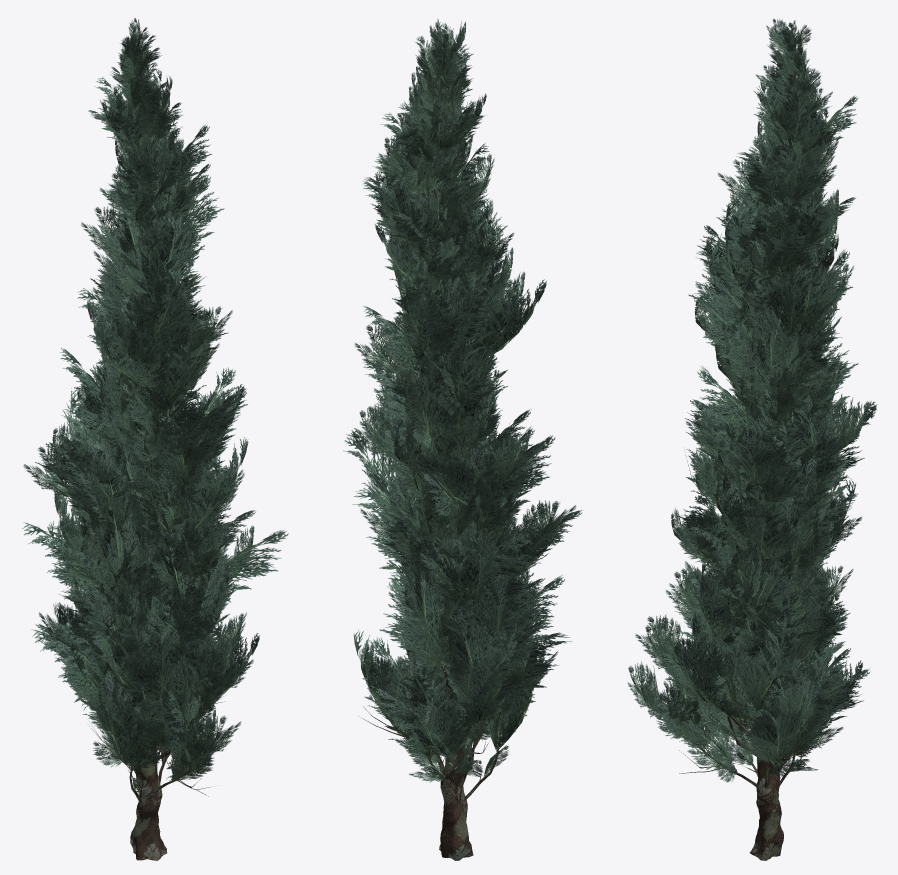
Rendered from cypres-1.glb.
3 renders of one model, left to right at view 1: azimuth 30°, elevation 25°; view 2: azimuth 150°, elevation 25°; view 3: azimuth 270°, elevation 25°, orthographic. The views are drawn at different scales.
Parts seen in each view (by area): view 1: Cypress_V2_test; view 2: Cypress_V2_test; view 3: Cypress_V2_test.
Boxes of the visible parts, <box> form: Cypress_V2_test: <box>22,18,288,860</box>; Cypress_V2_test: <box>343,19,582,860</box>; Cypress_V2_test: <box>628,18,877,860</box>.
Size of the model in its own units: 1.66 by 5.31 by 1.49.
3 materials, 2 textured.
